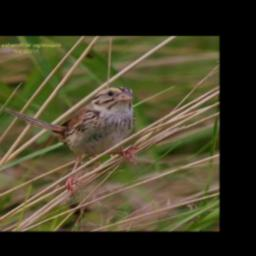Sparrow: (2, 86, 141, 199)
